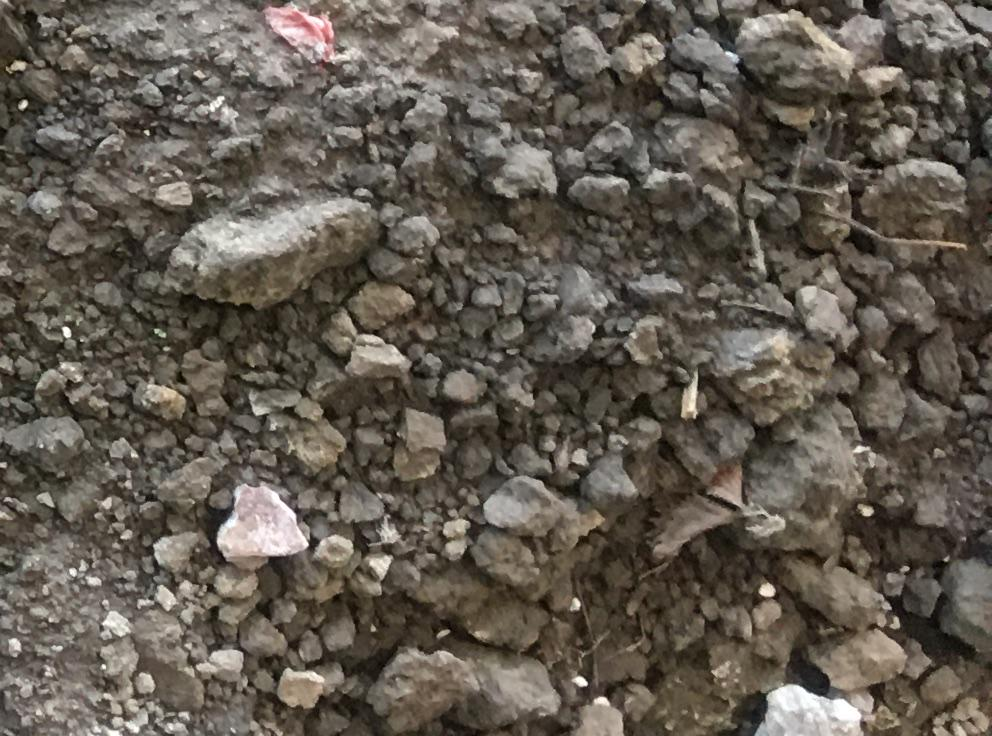block: (168, 194, 384, 304), (753, 402, 853, 559), (738, 8, 852, 104)
